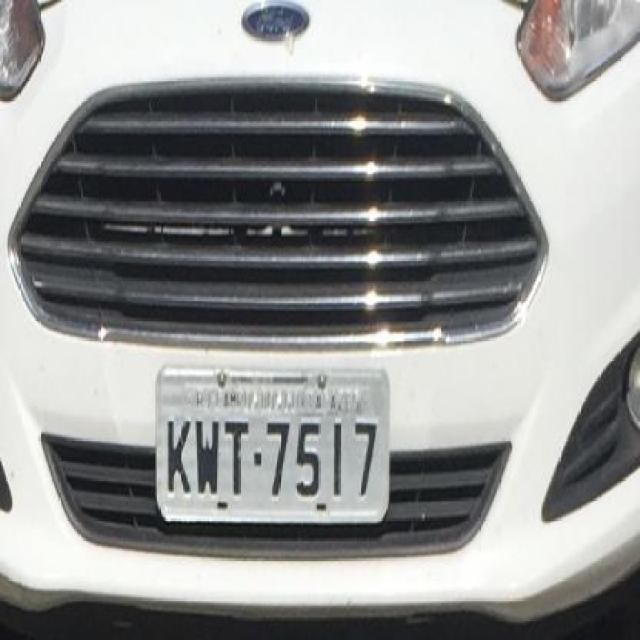old_plate: (150, 353, 396, 529)
